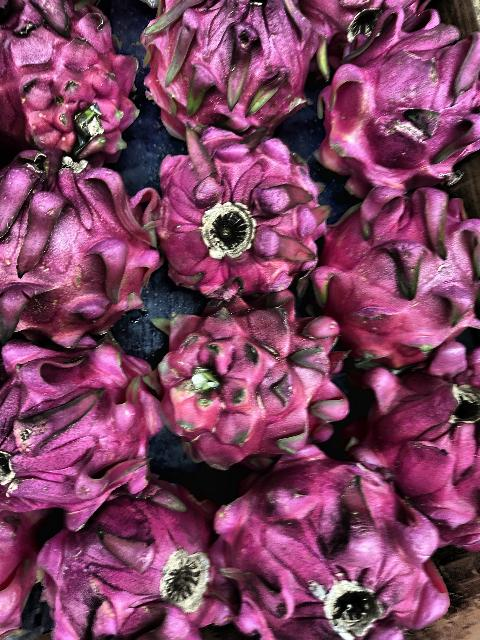buah-naga-matang: (223, 454, 444, 640), (0, 142, 158, 338), (320, 174, 480, 366), (140, 126, 328, 288), (34, 488, 234, 640), (147, 306, 344, 456), (330, 0, 480, 194), (0, 336, 164, 512), (135, 0, 315, 136), (356, 358, 480, 544), (0, 0, 144, 152)
